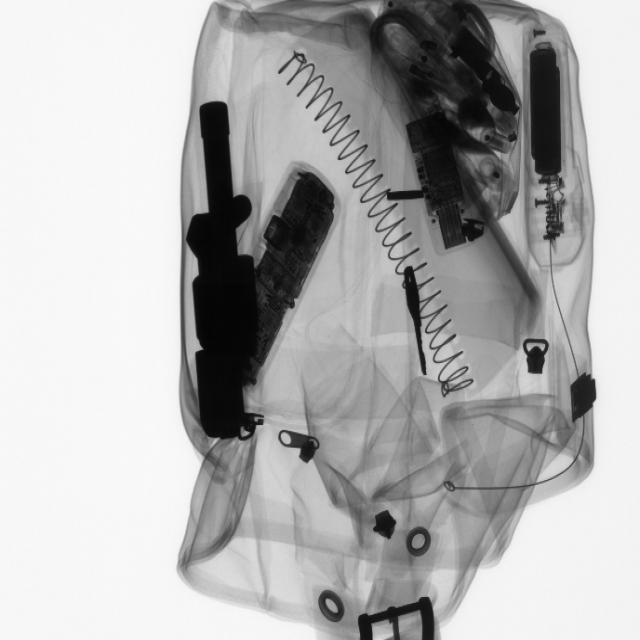GUN: (176, 89, 260, 450)
